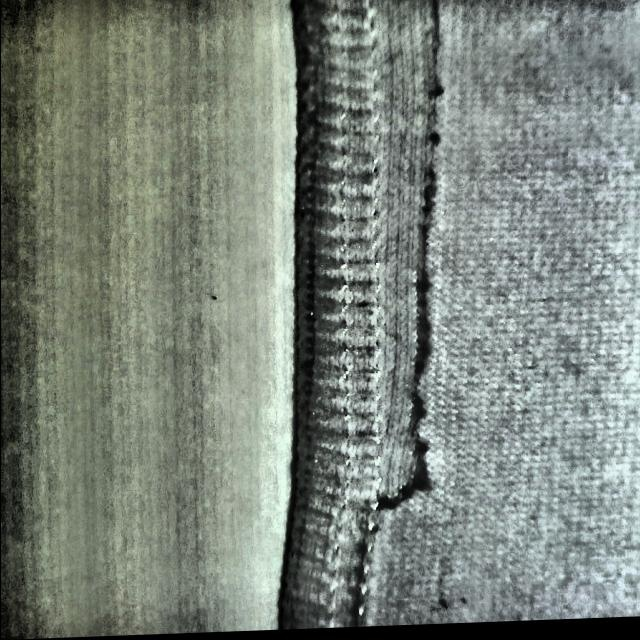seam: (274, 4, 503, 521)
